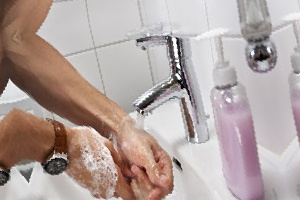washing hand: (37, 25, 220, 199)
